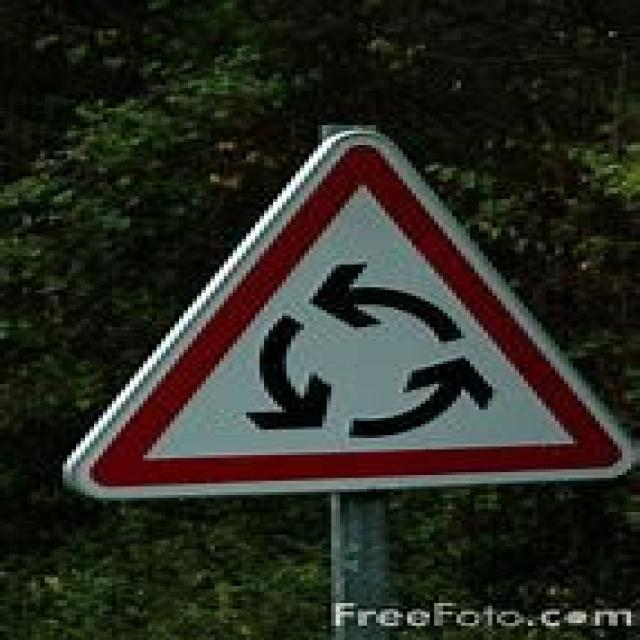roundabout: (63, 130, 609, 505)
